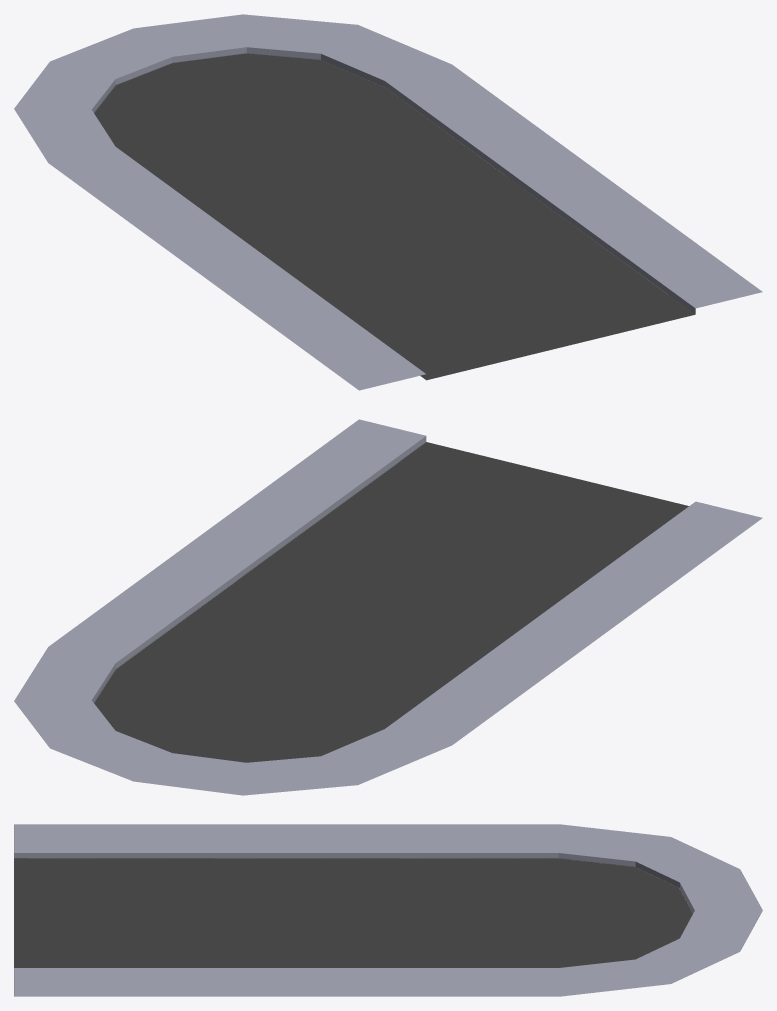
The model's file is End.fbx.
3 views of the same model, one above another, from view 1: azimuth 30°, elevation 25°; view 2: azimuth 150°, elevation 25°; view 3: azimuth 270°, elevation 25° (orthographic). The views are drawn at different scales.
Parts seen in each view (by area): view 1: End; view 2: End; view 3: End.
Part boxes in pixels (bbox=[...]): End: bbox=[14, 14, 762, 390]; End: bbox=[14, 419, 762, 795]; End: bbox=[14, 824, 762, 996].
Bounding box in the file's own units: 600 × 8.77 × 1100.
